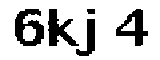4: (112, 5, 154, 52)
6: (10, 8, 44, 52)
j: (77, 5, 100, 60)
k: (46, 6, 81, 48)
